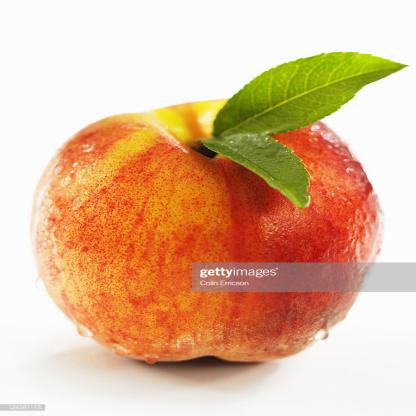peach leaf: (212, 48, 410, 140), (201, 129, 315, 209)
